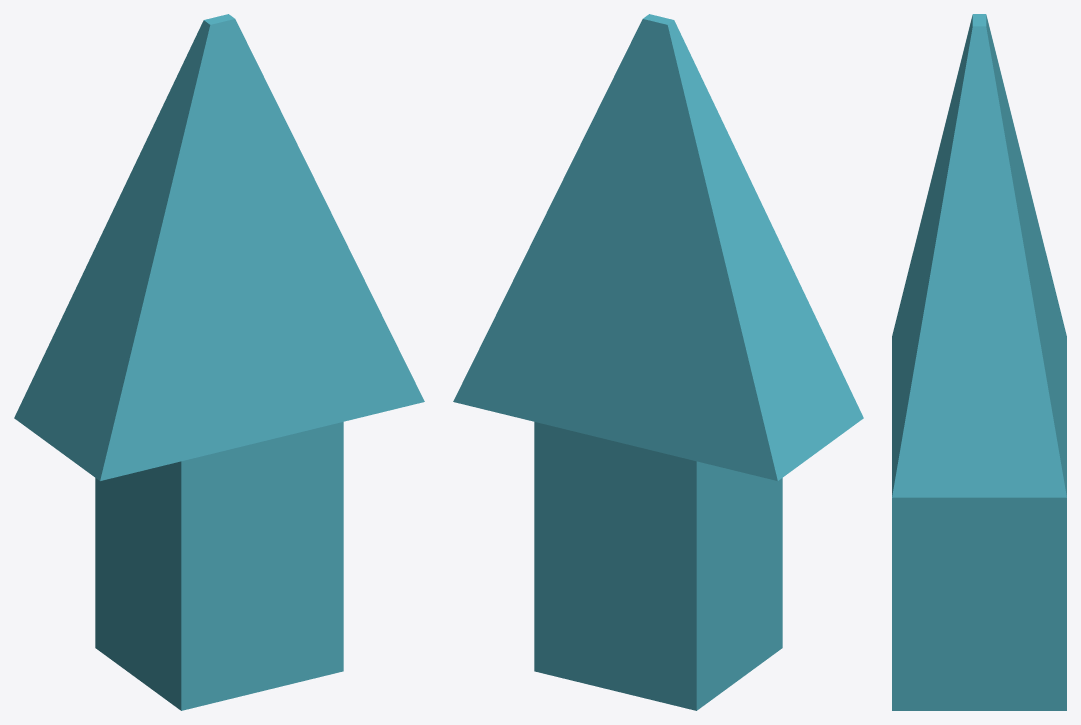
The model's file is arrow.fbx.
The picture shows the model from 3 angles, left to right: view 1: azimuth 30°, elevation 25°; view 2: azimuth 150°, elevation 25°; view 3: azimuth 270°, elevation 25°; orthographic projection.
Parts seen in each view (by area): view 1: Cube; view 2: Cube; view 3: Cube.
Boxes of the visible parts, x1,y1,x2,y2 form: Cube: (14, 14, 424, 710); Cube: (453, 14, 863, 710); Cube: (892, 14, 1066, 710).
Size of the model in its own units: 174 by 328 by 79.88.
